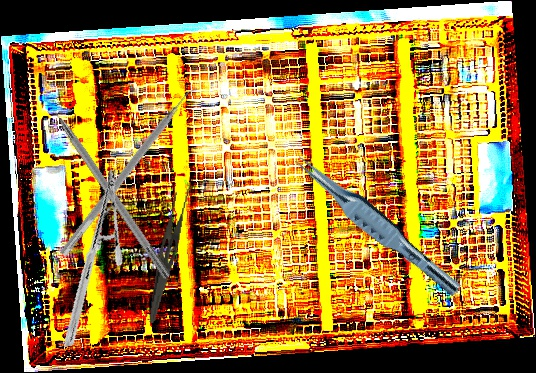Dressing Forceps: (148, 184, 192, 326)
Hook Surgical: (36, 85, 173, 281)
Needle Holder: (23, 168, 158, 348)
Spatula Surgical: (59, 81, 202, 263)
Tissue Forceps: (286, 150, 469, 298)
